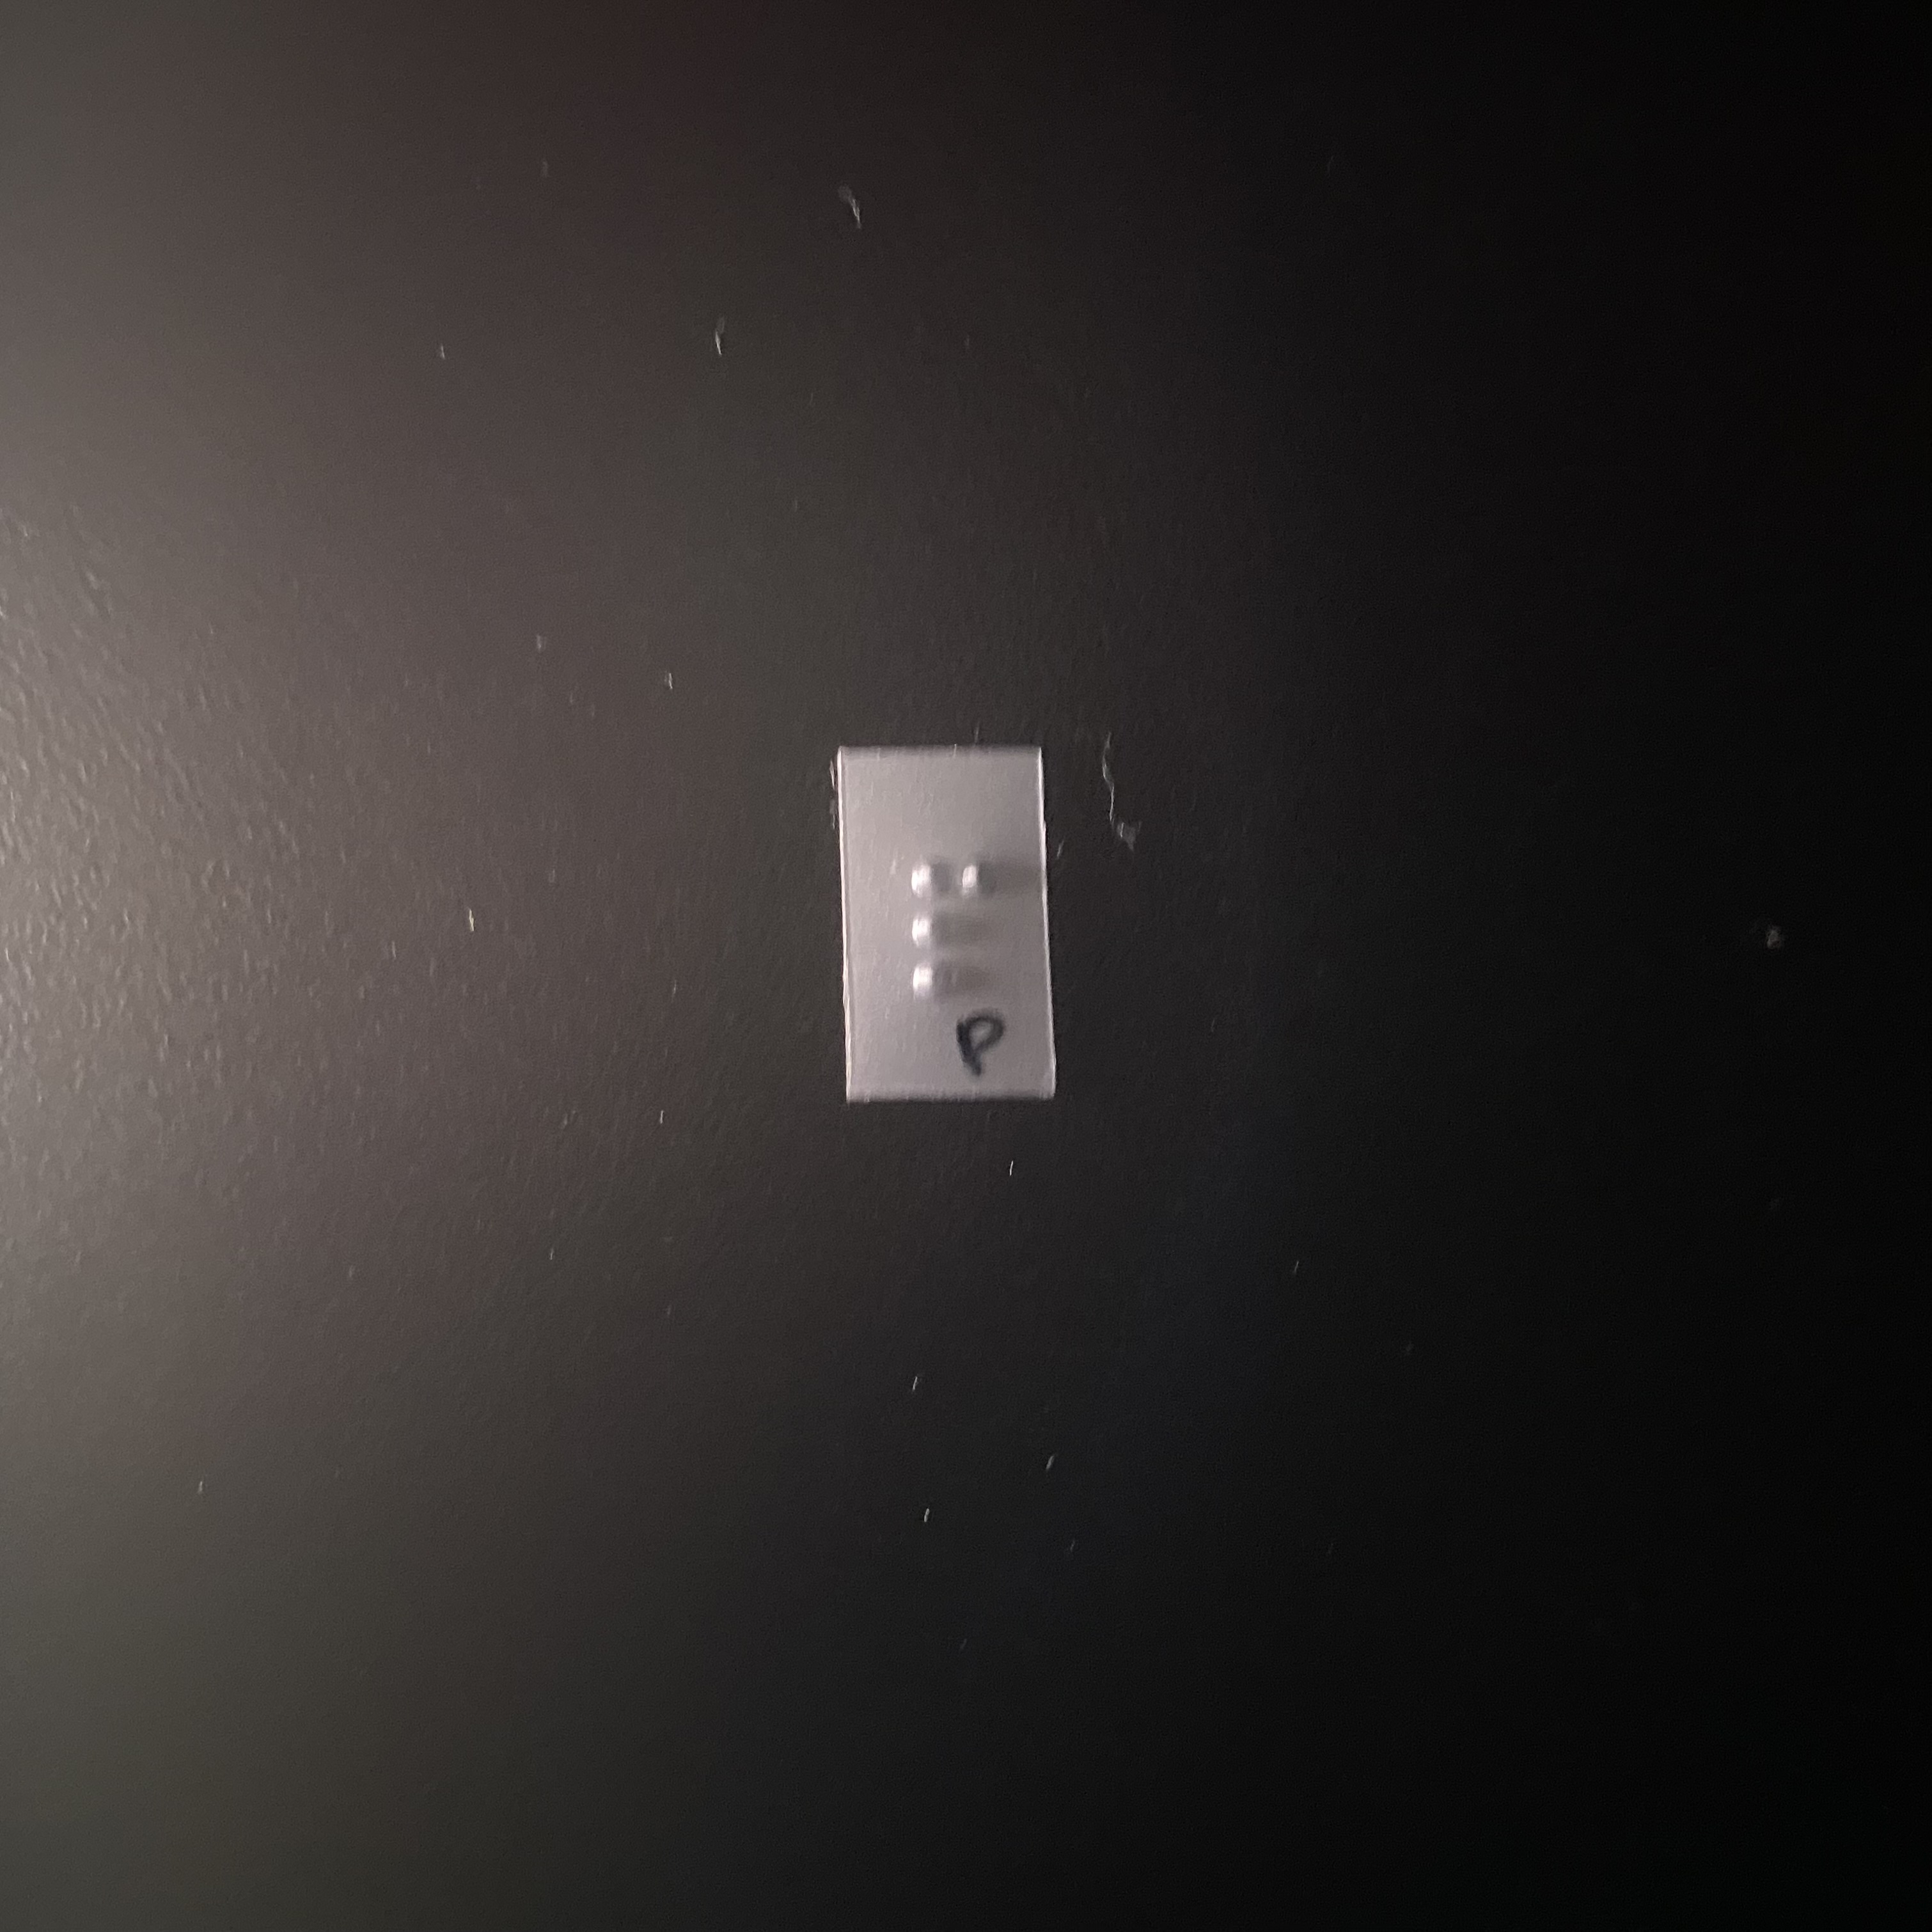p: (895, 850, 1032, 1007)
